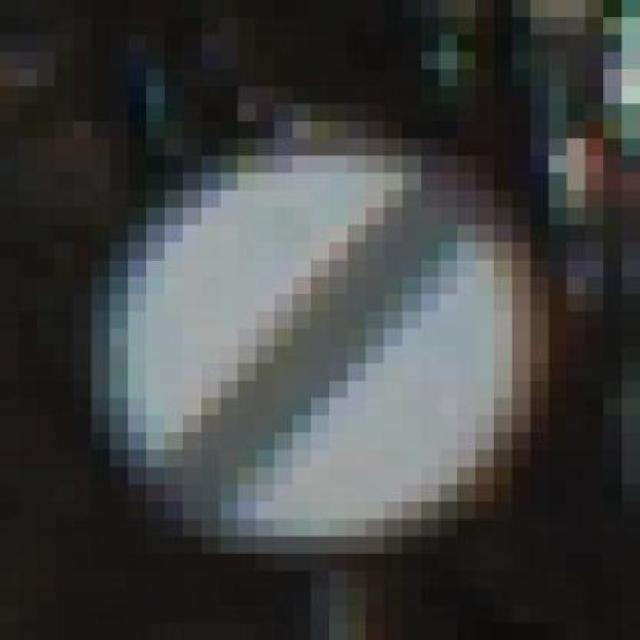End of all speed and passing limits: (54, 121, 548, 553)
